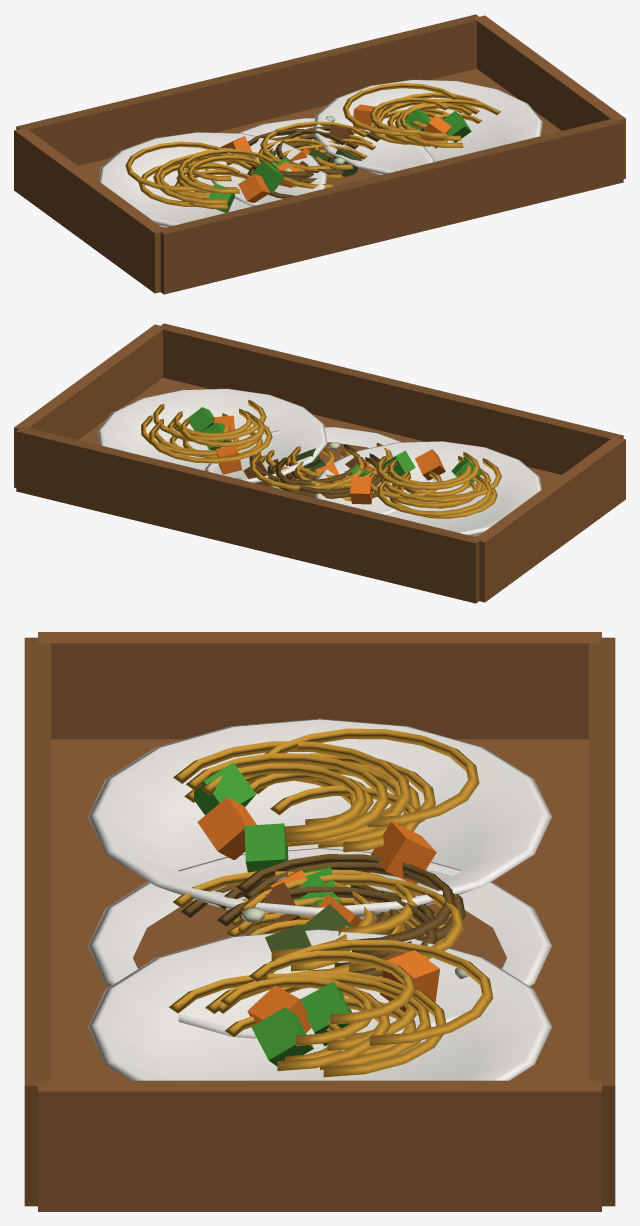
File: Noodle_Fried.fbx
3 views of the same model, one above another, from view 1: azimuth 30°, elevation 25°; view 2: azimuth 150°, elevation 25°; view 3: azimuth 270°, elevation 25° (orthographic). The views are drawn at different scales.
Visible parts, largest first — view 1: Noodle_Fried__Stack, Noodle_Fried, Noodle_Fried__Rotten; view 2: Noodle_Fried__Stack, Noodle_Fried, Noodle_Fried__Rotten; view 3: Noodle_Fried__Stack, Noodle_Fried, Noodle_Fried__Rotten.
Boxes of the visible parts, x1,y1,x2,y2 form: Noodle_Fried__Stack: (14,14,625,294); Noodle_Fried: (205,118,434,206); Noodle_Fried__Rotten: (245,116,379,198); Noodle_Fried__Stack: (14,323,625,603); Noodle_Fried: (205,427,434,515); Noodle_Fried__Rotten: (236,442,394,498); Noodle_Fried__Stack: (24,632,615,1211); Noodle_Fried: (88,848,551,1043); Noodle_Fried__Rotten: (181,854,468,978).
Size of the model in its own units: 0.328 by 0.04 by 0.178.
